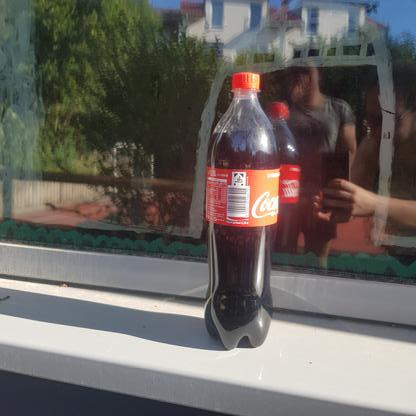coca-cola: (204, 71, 280, 350)
